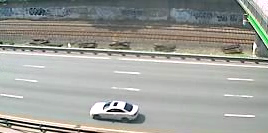car: (87, 99, 143, 124)
